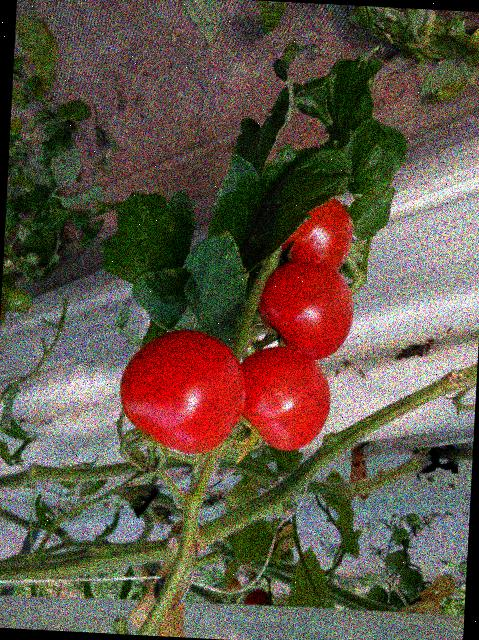l_fully_ripened: (115, 326, 249, 457), (253, 256, 355, 362), (235, 345, 333, 453), (280, 196, 354, 272)
